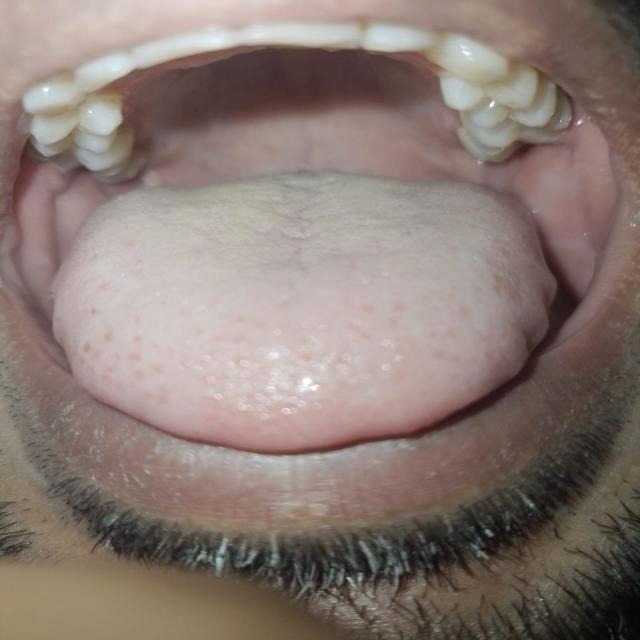No Cancer: (37, 65, 577, 437)
